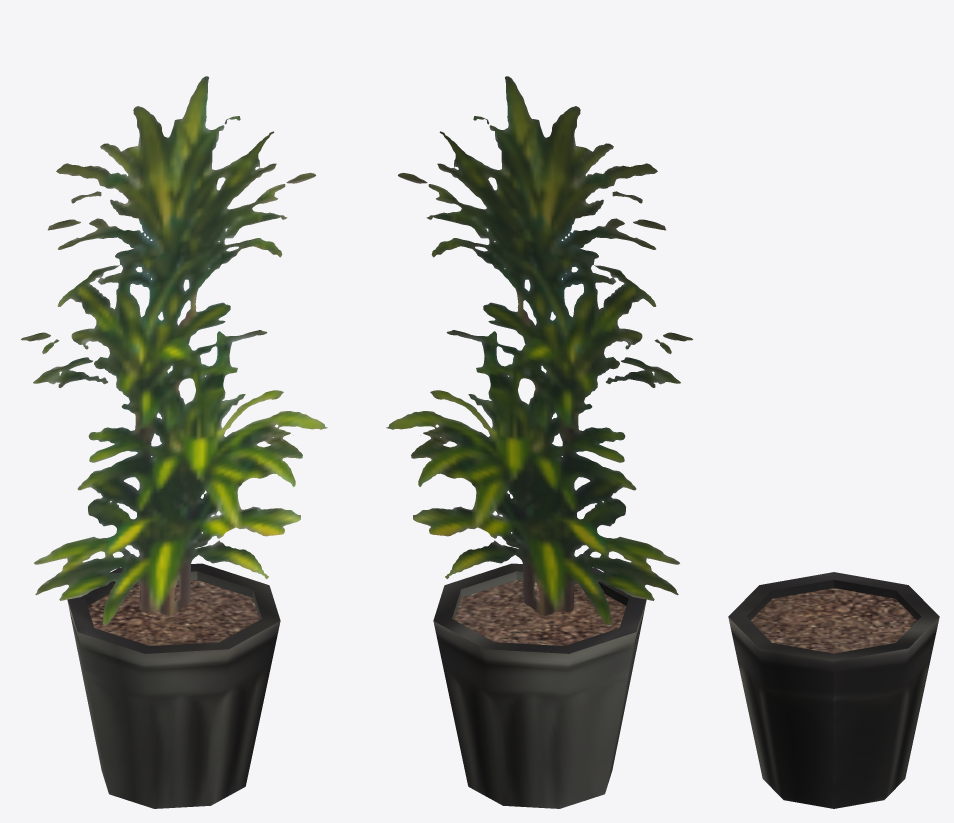
Rendered from studio_plant_3.FBX.
The picture shows the model from 3 angles, left to right: view 1: azimuth 30°, elevation 25°; view 2: azimuth 150°, elevation 25°; view 3: azimuth 270°, elevation 25°; orthographic projection. The views are drawn at different scales.
Parts seen in each view (by area): view 1: office_plant_3, office_pot; view 2: office_plant_3, office_pot; view 3: office_pot.
Part boxes in pixels (x1=…): office_plant_3: x1=21, y1=76, x2=327, y2=624; office_pot: x1=67, y1=563, x2=280, y2=808; office_plant_3: x1=386, y1=76, x2=692, y2=624; office_pot: x1=433, y1=563, x2=646, y2=808; office_pot: x1=728, y1=572, x2=939, y2=808.
Bounding box in the file's own units: 55.68 × 117 × 32.48.
